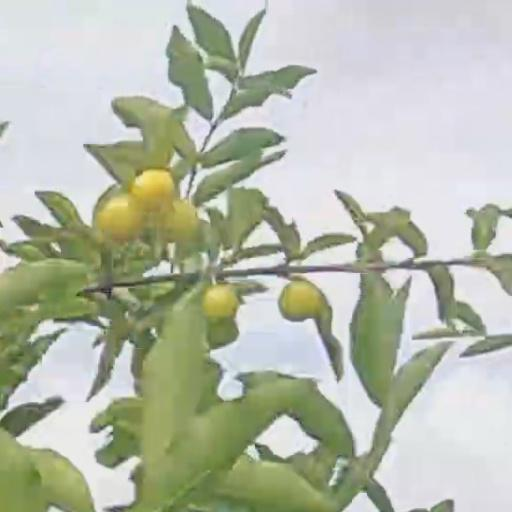acerola: (279, 281, 322, 321), (102, 197, 140, 239), (162, 204, 198, 243), (134, 170, 169, 209), (203, 285, 240, 321)
